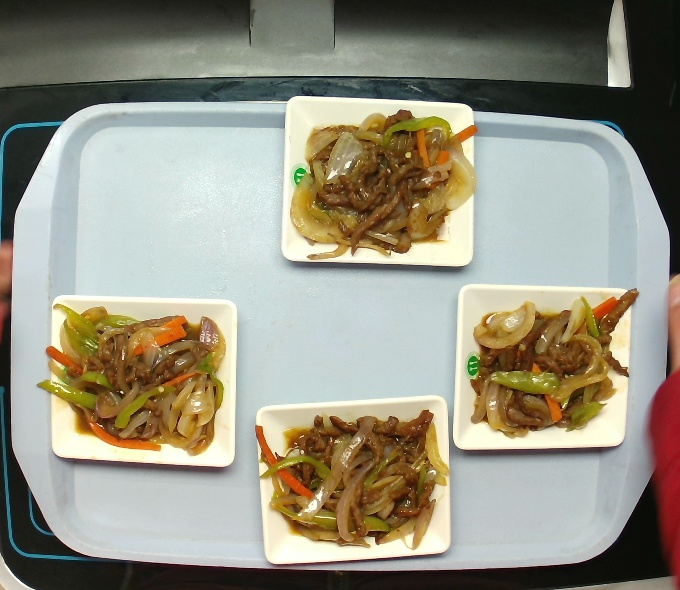wcq-NiuYangCongNiuLiu: (36, 302, 226, 453), (292, 105, 472, 261), (460, 289, 641, 432), (262, 406, 451, 542)
